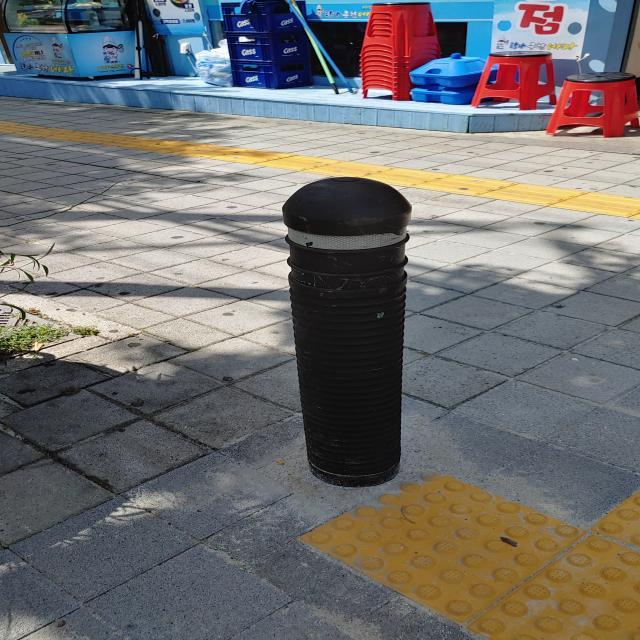pole: (281, 176, 411, 488)
